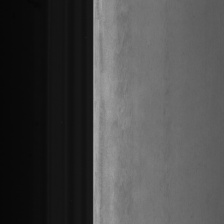silk_spot: (112, 50, 140, 183)
